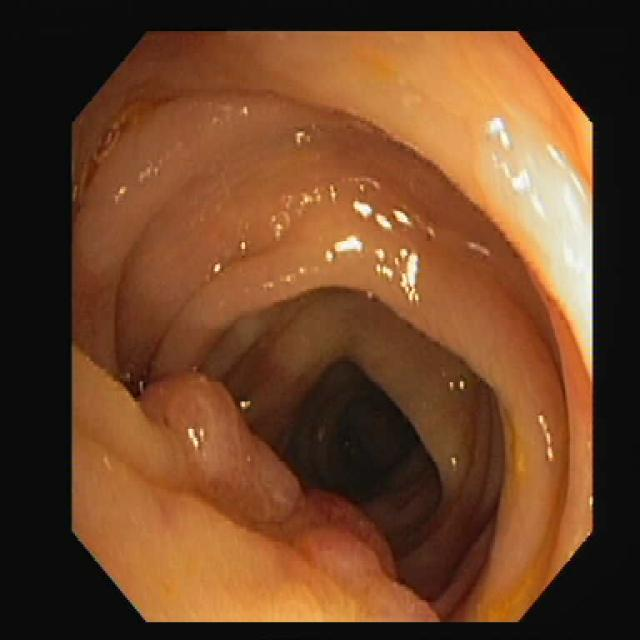tumor: (90, 373, 437, 618)
